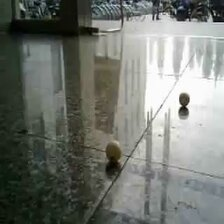w: (105, 140, 122, 162), (177, 92, 191, 107)
